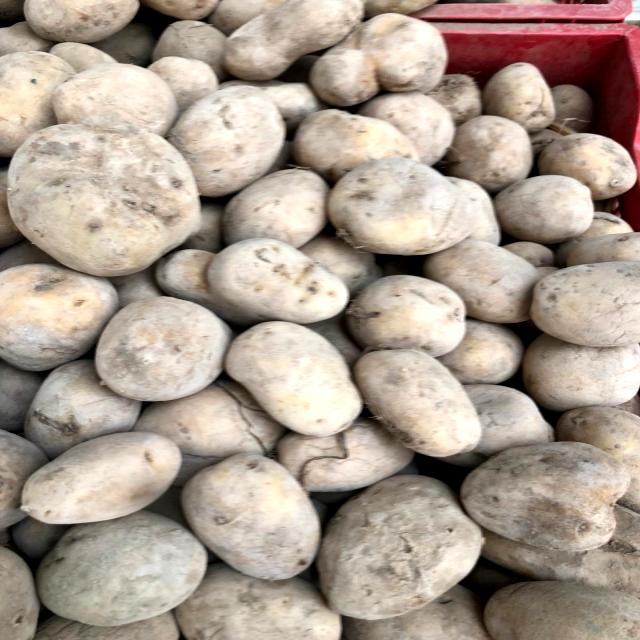potato: (4, 117, 207, 280), (309, 470, 479, 624), (172, 445, 327, 587), (213, 312, 364, 433), (14, 422, 182, 529), (91, 290, 237, 407), (323, 154, 480, 260), (350, 337, 486, 459), (203, 237, 349, 326), (485, 169, 600, 245)
